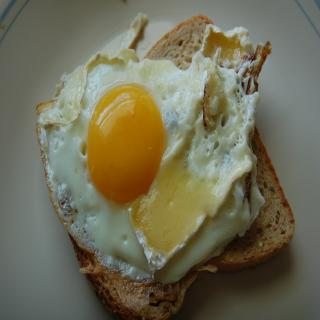Egg: (36, 24, 273, 286)
